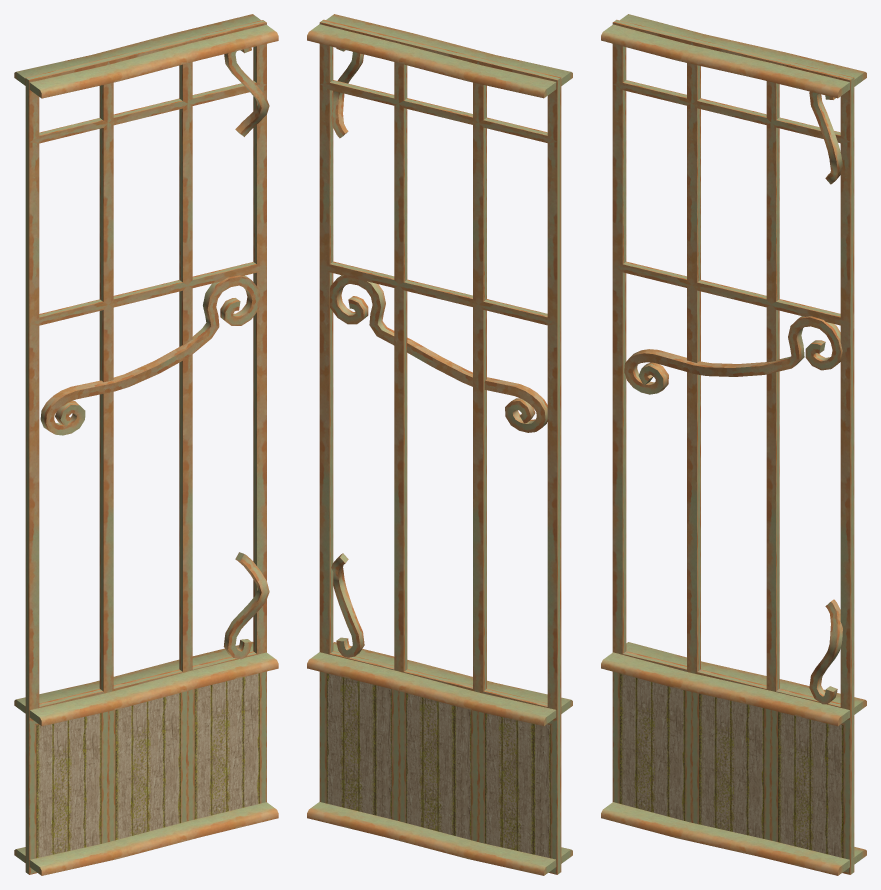
Rendered from greenhouse_door.fbx.
3 views of the same model, side by side, from view 1: azimuth 30°, elevation 25°; view 2: azimuth 150°, elevation 25°; view 3: azimuth 330°, elevation 25° (orthographic).
Parts seen in each view (by area): view 1: greenhouse_door; view 2: greenhouse_door; view 3: greenhouse_door.
Part boxes in pixels (bbox=[...]): greenhouse_door: bbox=[14, 14, 278, 875]; greenhouse_door: bbox=[307, 14, 572, 875]; greenhouse_door: bbox=[601, 14, 866, 875].
Size of the model in its own units: 91.18 by 291 by 18.72.
